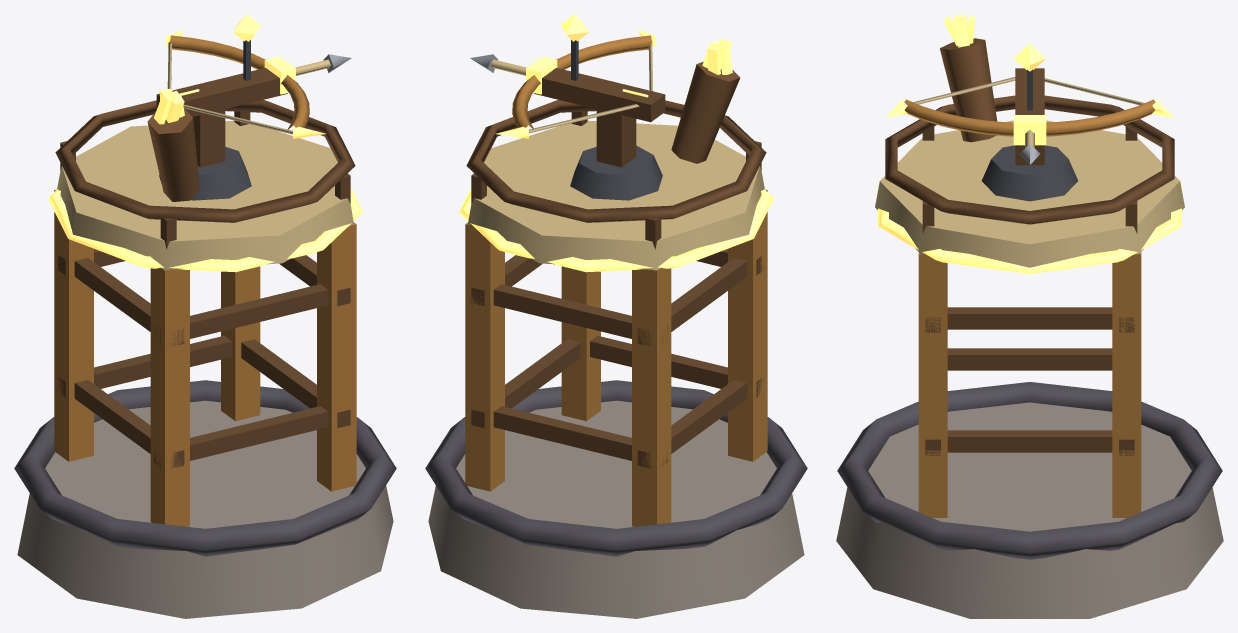
File: tower_archer_marksman.glb
The picture shows the model from 3 angles, left to right: view 1: azimuth 30°, elevation 25°; view 2: azimuth 150°, elevation 25°; view 3: azimuth 270°, elevation 25°; orthographic projection.
Visible parts, largest first — view 1: base, deck, base_rim, post_wn, post_en, post_ws, rail, post_es, quiver, deck_band, beam_x_0_n, beam_x_1_n (+10 smaller); view 2: base, deck, base_rim, post_ws, post_es, post_wn, rail, post_en, quiver, stock, swivel, deck_band (+10 smaller); view 3: base, deck, base_rim, rail, post_es, post_en, beam_z_0_e, beam_z_0_w, beam_z_1_e, swivel, quiver, deck_band (+3 smaller).
Part boxes in pixels (x1,y1,x2,y2): base: (17, 400, 393, 618); deck: (57, 120, 353, 269); base_rim: (14, 380, 396, 556); post_wn: (150, 268, 189, 526); post_en: (317, 222, 356, 491); post_ws: (54, 189, 93, 461); rail: (55, 100, 355, 222); post_es: (221, 266, 260, 421); quiver: (147, 108, 199, 201); deck_band: (48, 188, 362, 272); beam_x_0_n: (154, 406, 328, 467); beam_x_1_n: (154, 284, 328, 344); base: (428, 400, 804, 618); deck: (468, 120, 764, 269); base_rim: (425, 380, 807, 556); post_ws: (632, 268, 671, 526); post_es: (465, 222, 504, 491); post_wn: (728, 189, 767, 461); rail: (466, 100, 766, 222); post_en: (561, 266, 600, 421); quiver: (671, 61, 740, 163); stock: (534, 68, 665, 122); swivel: (570, 145, 662, 200); deck_band: (459, 188, 773, 272); base: (836, 402, 1223, 618); deck: (875, 120, 1184, 267); base_rim: (837, 382, 1222, 559); rail: (885, 95, 1174, 224); post_es: (1112, 252, 1141, 517); post_en: (918, 252, 947, 517); beam_z_0_e: (947, 430, 1112, 452); beam_z_0_w: (947, 348, 1112, 370); beam_z_1_e: (947, 307, 1112, 329); swivel: (981, 145, 1078, 201); quiver: (940, 38, 997, 142); deck_band: (878, 184, 1181, 274).
Size of the model in its own units: 0.398 by 0.59 by 0.4.
